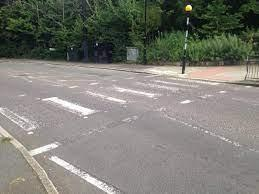faded_road_lines: (0, 65, 252, 194)
